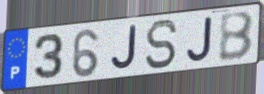3: (32, 33, 67, 82)
6: (71, 27, 101, 80)
B: (218, 9, 256, 63)
J: (185, 15, 214, 64), (110, 23, 138, 73)
S: (144, 18, 180, 71)
